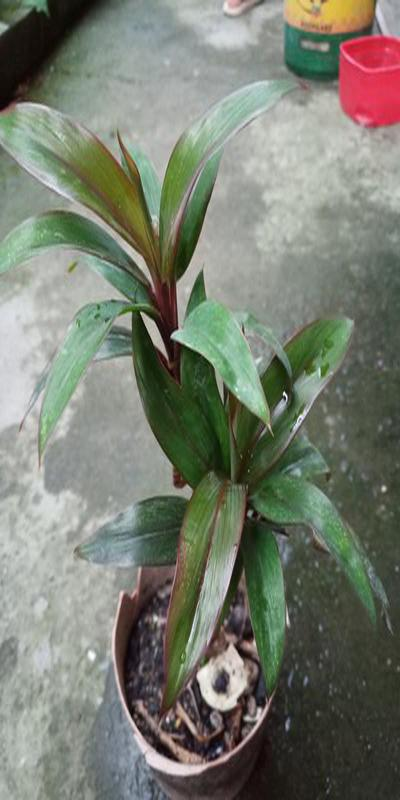Baston de san jose: (24, 126, 393, 707)
